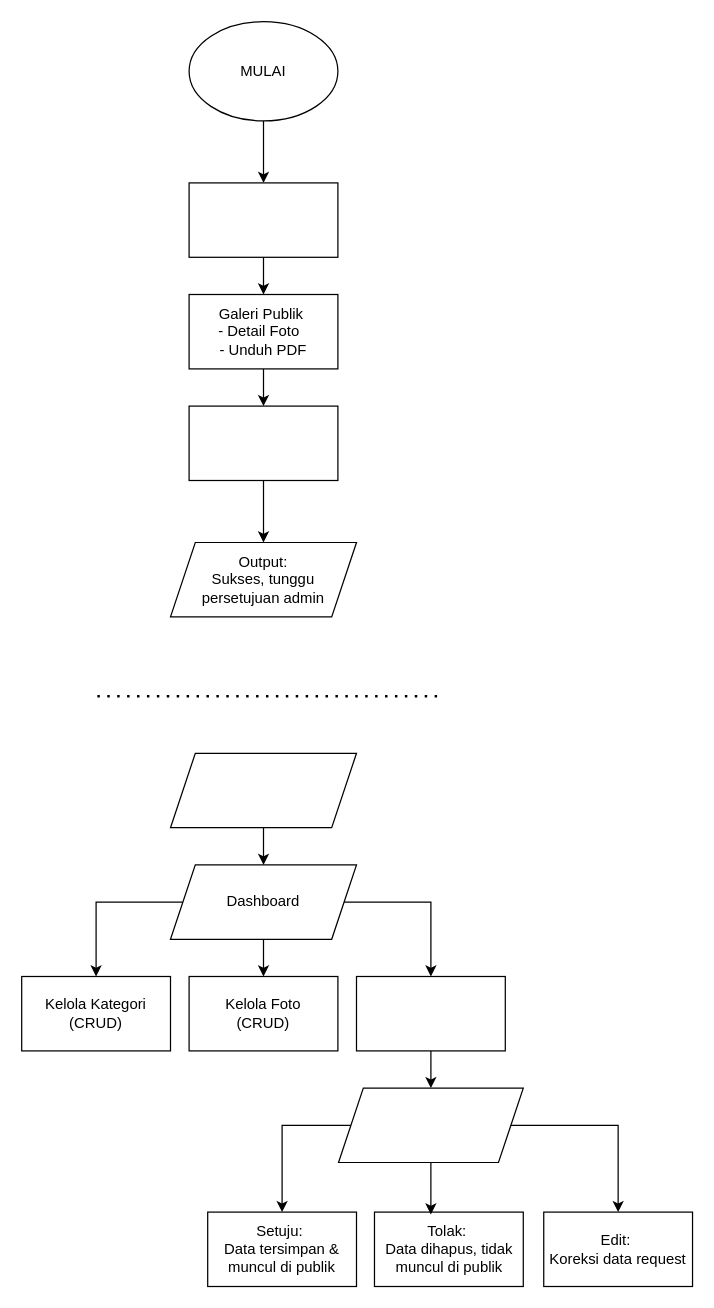
Image size: 714x1308. Some labels were removed from this diagram. Each missing label, with the centre of its shape:
"Beranda - Kategori - Foto Terbaru" goes at point 263,219.
"From Request Foto" goes at point 263,442.
"Lihat Pending" goes at point 430,1013.
"Login Admin" goes at point 262,790.
"Pending Request Foto" goes at point 430,1124.
